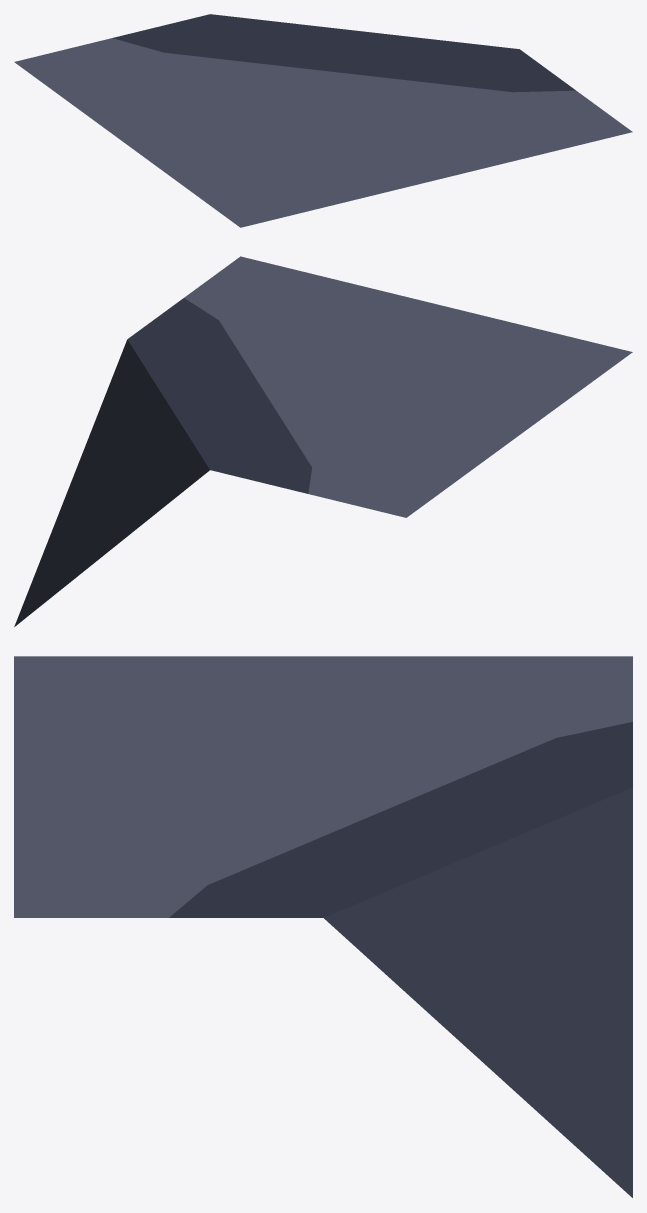
File: terrain_sideCornerInner.glb
3 views of the same model, one above another, from view 1: azimuth 30°, elevation 25°; view 2: azimuth 150°, elevation 25°; view 3: azimuth 270°, elevation 25° (orthographic). The views are drawn at different scales.
Visible parts, largest first — view 1: terrain_sideCornerInner; view 2: terrain_sideCornerInner; view 3: terrain_sideCornerInner.
Part boxes in pixels (x1,y1,x2,y2): terrain_sideCornerInner: (14, 14, 632, 227); terrain_sideCornerInner: (14, 256, 632, 626); terrain_sideCornerInner: (14, 656, 632, 1197).
Bounding box in the file's own units: 1 × 0.5 × 1.
